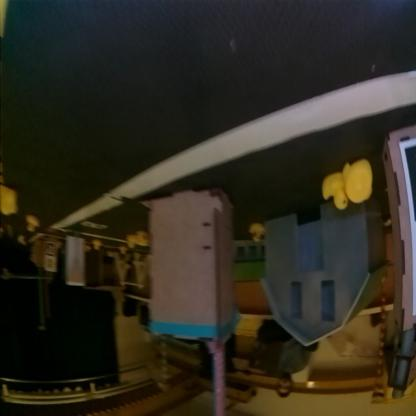Duckie: (345, 162, 373, 202), (324, 174, 348, 212), (2, 188, 18, 218), (251, 225, 265, 243), (27, 218, 41, 234), (137, 232, 151, 246)
